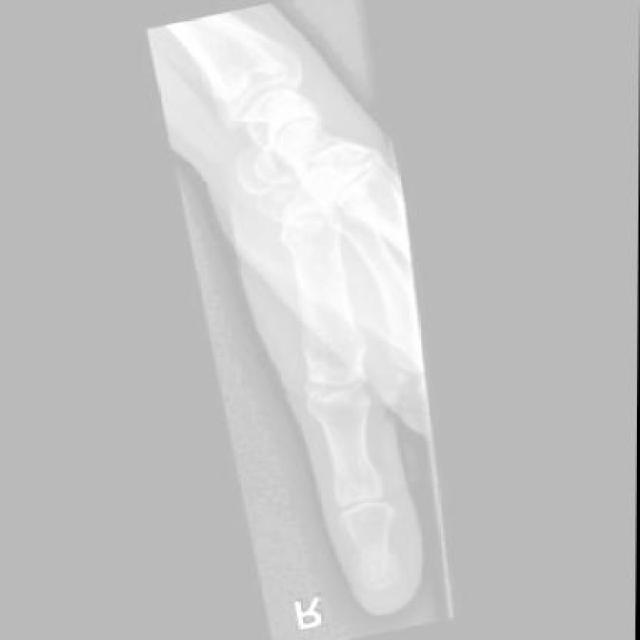Fracture: (355, 548, 405, 597)
